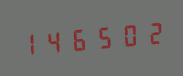five: (90, 20, 113, 54)
four: (41, 24, 64, 58)
one: (17, 26, 40, 60)
six: (66, 22, 89, 56)
two: (138, 16, 161, 49)
zero: (114, 18, 137, 51)
